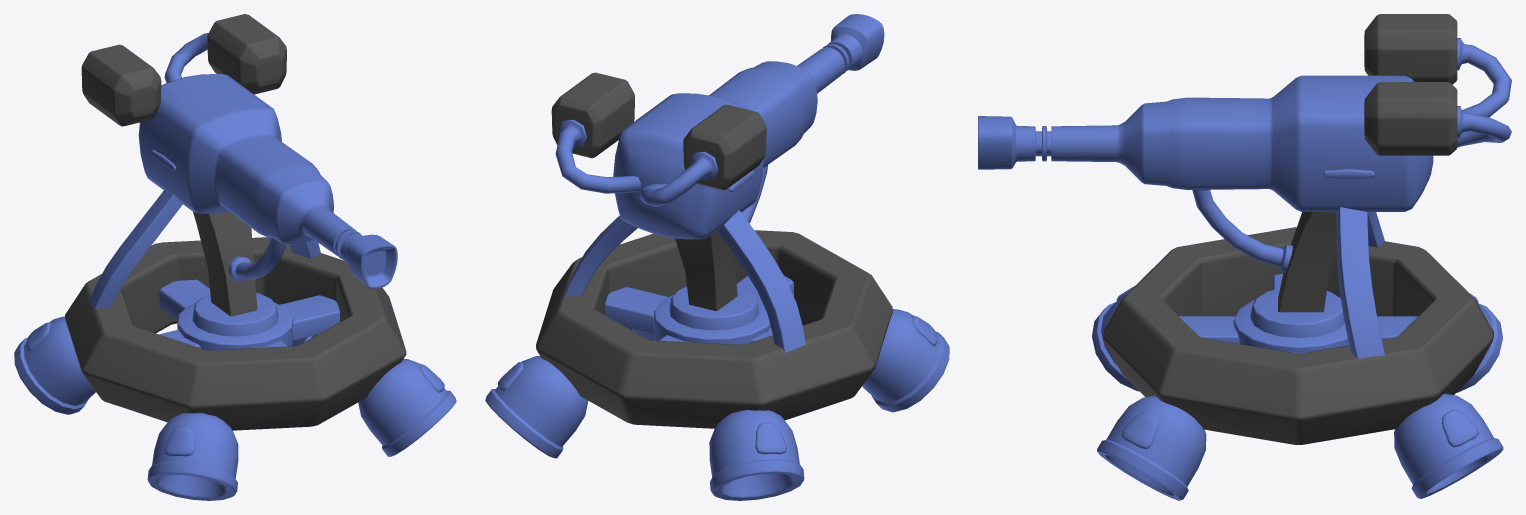
File: _Turel_04.fbx
3 views of the same model, side by side, from view 1: azimuth 30°, elevation 25°; view 2: azimuth 150°, elevation 25°; view 3: azimuth 270°, elevation 25° (orthographic). The views are drawn at different scales.
Visible parts, largest first — view 1: Turel_04; view 2: Turel_04; view 3: Turel_04.
Part boxes in pixels (x1,y1,x2,y2): Turel_04: [14, 14, 456, 500]; Turel_04: [485, 14, 949, 500]; Turel_04: [978, 14, 1511, 500].
Size of the model in its own units: 280 by 307 by 383.
1 material, 1 textured.
